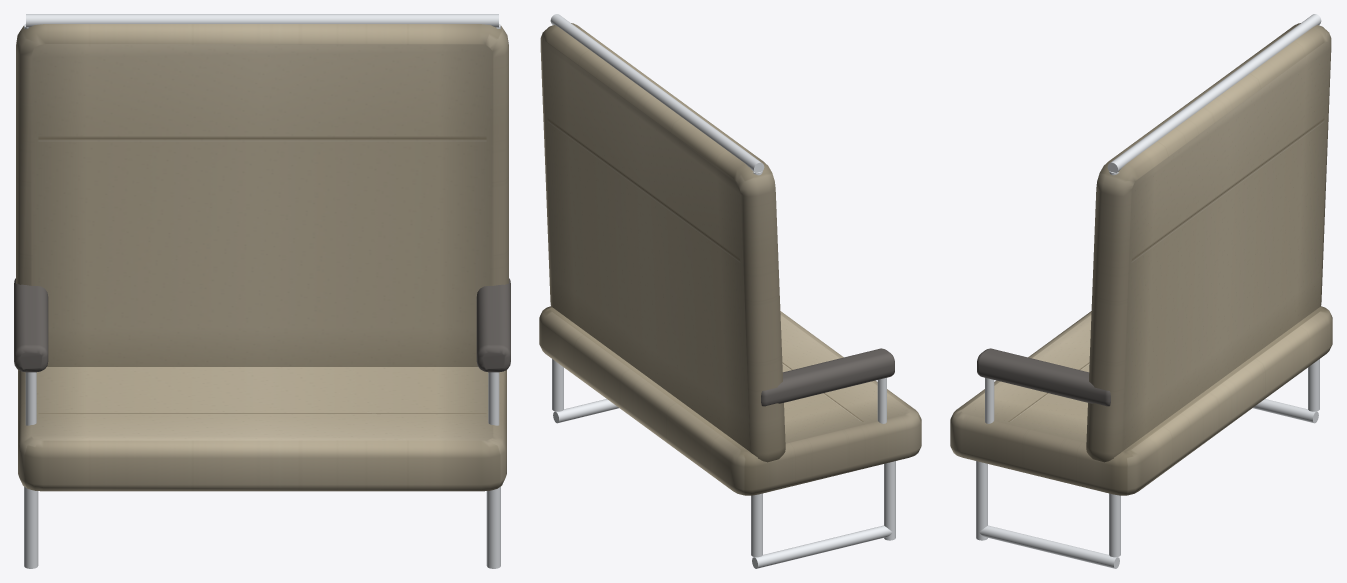
Rendered from seat_ordinary.glb.
3 renders of one model, left to right at view 1: azimuth 30°, elevation 25°; view 2: azimuth 150°, elevation 25°; view 3: azimuth 270°, elevation 25°, orthographic. The views are drawn at different scales.
Parts seen in each view (by area): view 1: seat_ordinary; view 2: seat_ordinary; view 3: seat_ordinary.
Part boxes in pixels (x1,y1,x2,y2): seat_ordinary: (14,14,510,568); seat_ordinary: (539,14,921,568); seat_ordinary: (950,14,1332,568).
Bounding box in the file's own units: 1.06 × 1.04 × 0.8844.
3 materials, 1 textured.
